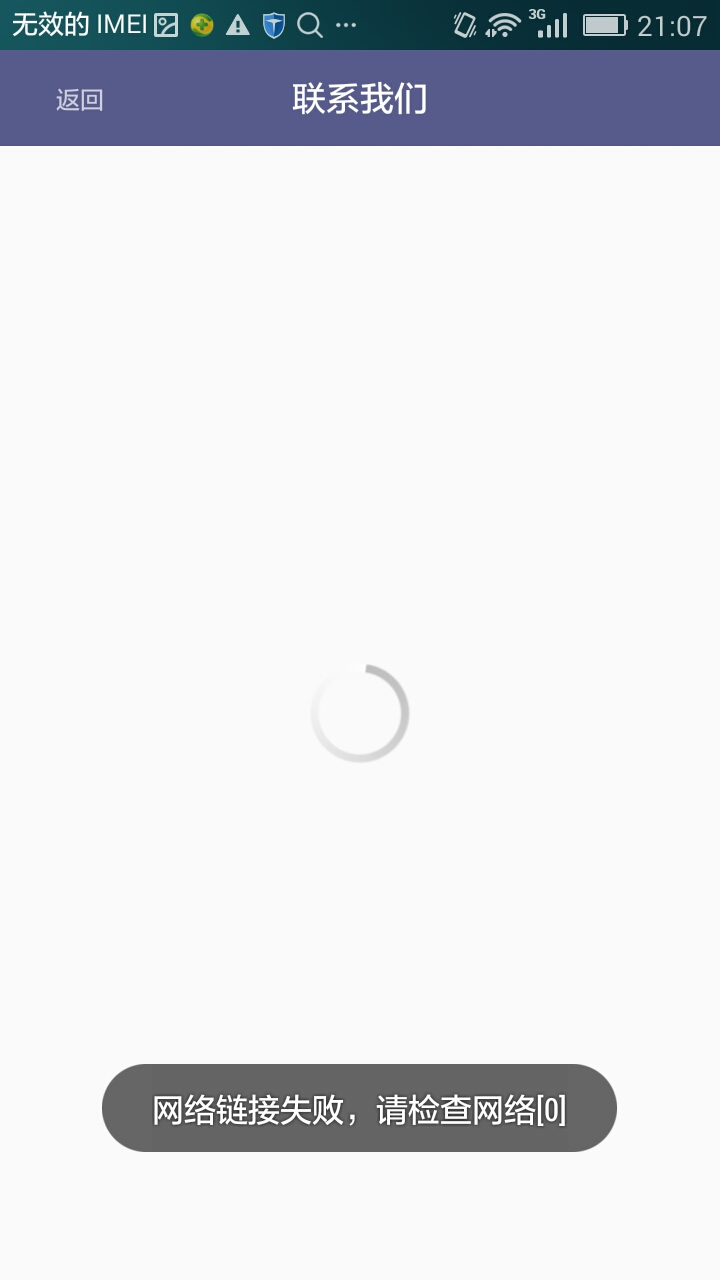alert: (91, 1057, 627, 1161)
